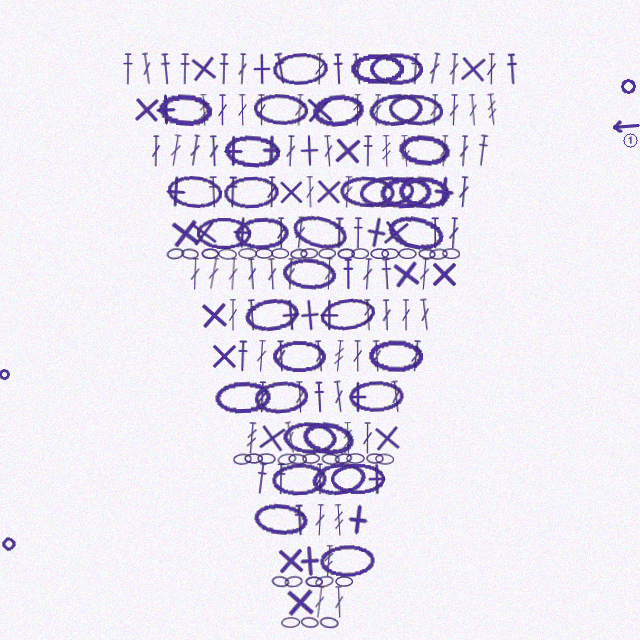chain: (289, 210, 351, 255), (385, 211, 446, 254), (318, 295, 377, 334), (300, 418, 357, 458), (310, 459, 367, 498), (243, 295, 300, 334), (252, 501, 310, 538), (166, 173, 223, 210), (367, 91, 424, 128), (223, 133, 281, 169), (281, 256, 338, 292), (358, 174, 415, 210), (387, 92, 444, 128), (397, 132, 452, 169), (253, 379, 309, 415), (252, 92, 309, 127), (397, 174, 452, 210), (311, 92, 366, 128), (157, 92, 213, 127), (272, 51, 328, 86), (271, 462, 328, 496), (214, 380, 271, 414), (223, 175, 280, 209), (339, 175, 396, 209), (282, 420, 337, 455), (319, 544, 376, 577), (348, 380, 405, 413), (234, 216, 289, 250), (379, 175, 433, 209), (368, 339, 423, 372), (330, 463, 386, 495), (196, 217, 252, 249), (369, 52, 423, 85), (272, 340, 327, 372), (350, 53, 404, 85), (314, 574, 335, 589), (277, 452, 297, 466), (319, 616, 339, 629), (300, 616, 319, 629), (271, 575, 290, 588), (284, 575, 303, 588), (334, 452, 353, 465), (166, 247, 185, 260), (233, 453, 252, 465), (288, 453, 307, 465), (321, 453, 340, 465), (375, 453, 394, 465), (218, 248, 237, 260), (429, 248, 448, 260), (181, 248, 199, 260), (290, 248, 308, 260), (418, 248, 436, 260), (281, 617, 300, 628), (244, 453, 263, 464), (257, 453, 276, 464), (346, 453, 365, 464), (238, 248, 257, 259), (370, 248, 389, 259), (398, 248, 417, 259), (305, 576, 323, 587), (335, 576, 353, 587), (302, 453, 320, 464), (366, 453, 384, 464), (201, 248, 219, 259), (255, 248, 273, 259), (271, 248, 289, 259), (300, 248, 318, 259), (318, 248, 336, 259), (337, 248, 355, 259), (351, 248, 369, 259), (381, 248, 399, 259), (442, 248, 460, 259)
double: (283, 421, 298, 454), (206, 257, 221, 290), (168, 134, 183, 167), (427, 52, 442, 85), (332, 380, 346, 413), (389, 380, 403, 413), (418, 298, 432, 331), (293, 216, 307, 249), (188, 134, 202, 167), (140, 52, 154, 85), (409, 340, 423, 372), (313, 586, 326, 618), (255, 340, 268, 372), (313, 340, 326, 372), (361, 258, 374, 290), (418, 258, 431, 290), (447, 217, 460, 249), (341, 176, 354, 208), (457, 176, 470, 208), (322, 135, 335, 167), (351, 53, 364, 85), (333, 586, 345, 618), (314, 504, 326, 536), (256, 381, 268, 413), (294, 381, 306, 413), (275, 340, 287, 372), (371, 340, 383, 372), (189, 258, 201, 290), (227, 258, 239, 290), (246, 258, 258, 290), (266, 258, 278, 290), (323, 258, 335, 290), (208, 135, 220, 167), (438, 135, 450, 167), (458, 135, 470, 167), (371, 94, 383, 126), (448, 94, 460, 126), (467, 94, 479, 126), (448, 53, 460, 85), (362, 422, 373, 454), (352, 340, 363, 372), (381, 299, 392, 331), (285, 258, 296, 290), (266, 176, 277, 208), (285, 135, 296, 167), (217, 94, 228, 126), (237, 94, 248, 126), (256, 94, 267, 126), (294, 94, 305, 126), (429, 94, 440, 126), (237, 53, 248, 85), (314, 53, 325, 85), (486, 53, 497, 85), (315, 463, 325, 495), (228, 299, 238, 331), (401, 299, 411, 331), (276, 217, 286, 249), (305, 176, 315, 208), (151, 135, 161, 167)
half_double: (272, 52, 289, 85), (254, 462, 269, 495), (475, 134, 490, 167), (245, 299, 259, 331), (159, 53, 173, 85), (505, 53, 519, 85), (293, 504, 306, 536), (313, 381, 326, 413), (236, 340, 249, 372), (380, 258, 393, 290), (207, 176, 220, 208), (226, 176, 239, 208), (332, 53, 345, 85), (409, 53, 422, 85), (275, 463, 287, 495), (342, 258, 354, 290), (333, 217, 345, 249), (352, 217, 364, 249), (429, 217, 441, 249), (362, 135, 374, 167), (122, 53, 134, 85), (179, 53, 191, 85), (218, 53, 230, 85)
noise: (610, 119, 640, 133), (621, 131, 639, 149), (0, 535, 18, 553), (619, 77, 637, 95), (0, 368, 11, 381)
single: (358, 214, 395, 251), (254, 420, 290, 456), (388, 256, 424, 292), (167, 215, 203, 251), (186, 215, 222, 251), (340, 502, 375, 537), (426, 174, 461, 209), (186, 51, 221, 86), (283, 585, 317, 619), (293, 544, 327, 578), (370, 421, 404, 455), (197, 298, 231, 332), (274, 298, 308, 332), (293, 298, 327, 332), (379, 216, 413, 250), (456, 52, 490, 86), (274, 544, 307, 577), (226, 216, 259, 249), (159, 175, 192, 208), (312, 175, 345, 208), (255, 134, 288, 167), (293, 134, 326, 167), (331, 134, 364, 167), (130, 93, 163, 126), (149, 93, 182, 126), (303, 93, 336, 126), (361, 463, 393, 495), (342, 381, 374, 413), (208, 340, 240, 372), (313, 299, 345, 331), (428, 258, 460, 290), (275, 176, 307, 208), (217, 135, 249, 167), (246, 53, 278, 85)
treble: (485, 93, 499, 126), (332, 340, 346, 372), (322, 545, 335, 577), (245, 422, 258, 454), (399, 135, 412, 167), (333, 504, 345, 536), (342, 422, 354, 454), (362, 299, 374, 331), (198, 94, 210, 126), (381, 135, 392, 167), (352, 94, 363, 126)
